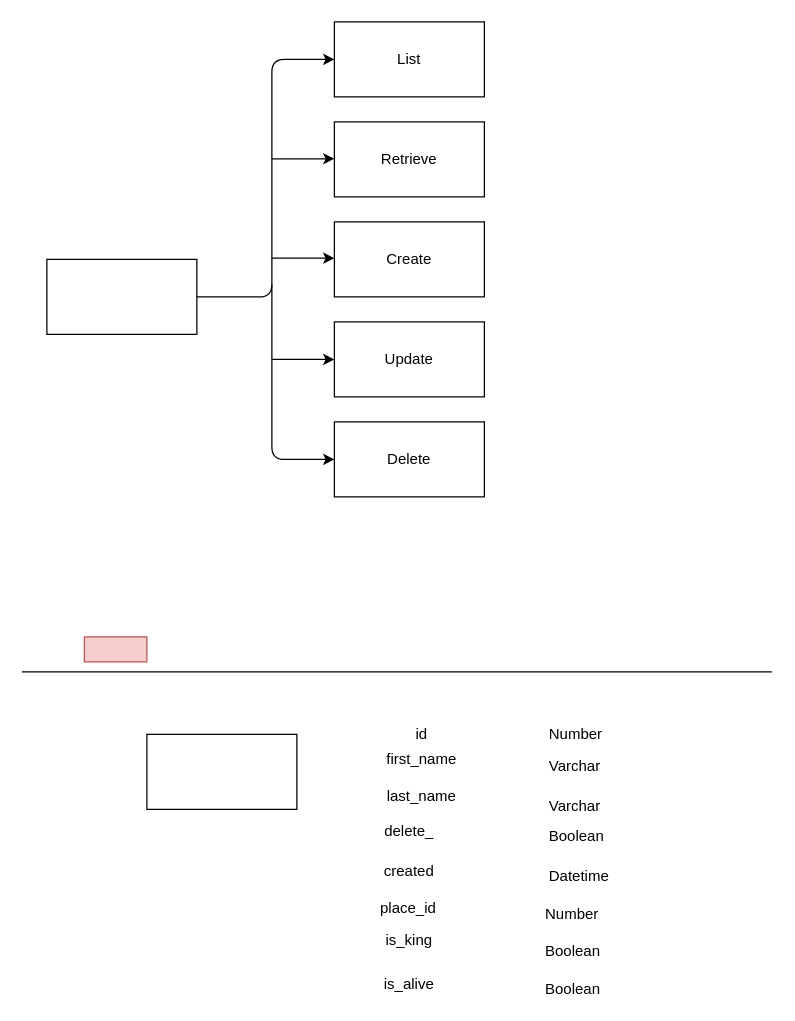
This 795x1021 diagram has some shape labels left out. The box of each missing label's shape, as (x1, y1, x2, y2) in pixels:
Model: (83, 636, 147, 662)
People: (146, 733, 297, 809)
People api: (46, 258, 197, 334)
